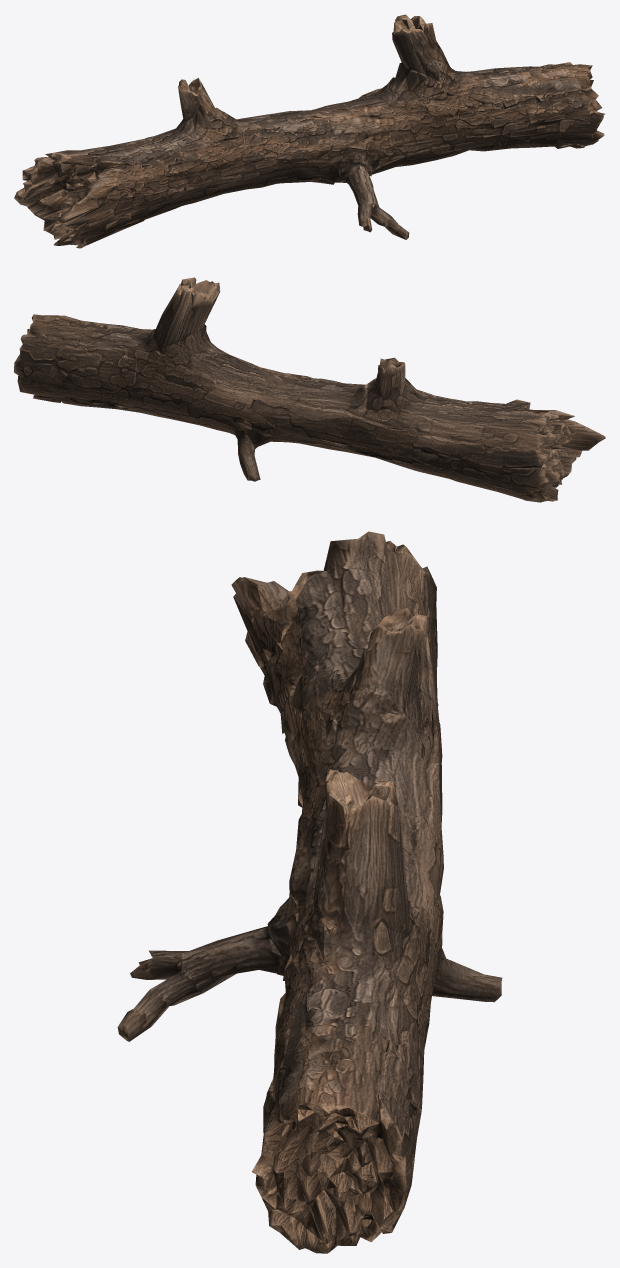
The model's file is Branch_005.fbx.
3 views of the same model, one above another, from view 1: azimuth 30°, elevation 25°; view 2: azimuth 150°, elevation 25°; view 3: azimuth 270°, elevation 25° (orthographic). The views are drawn at different scales.
Parts seen in each view (by area): view 1: output_unwrapped; view 2: output_unwrapped; view 3: output_unwrapped.
Boxes of the visible parts, x1=… form: output_unwrapped: x1=14, y1=14, x2=605, y2=248; output_unwrapped: x1=14, y1=277, x2=605, y2=502; output_unwrapped: x1=117, y1=531, x2=502, y2=1253.
Bounding box in the file's own units: 190 × 52.72 × 57.5.
1 material, 1 textured.
